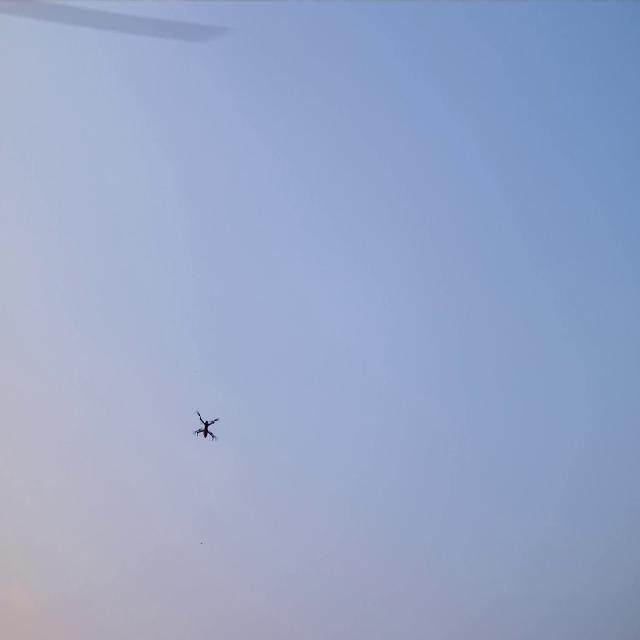UAV: (189, 407, 221, 445)
